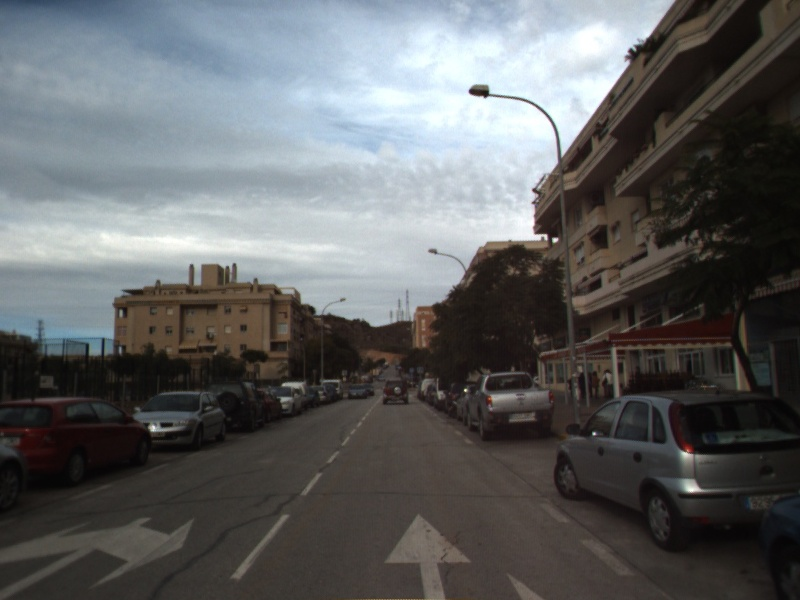STRAIGHT: (382, 509, 475, 600)
